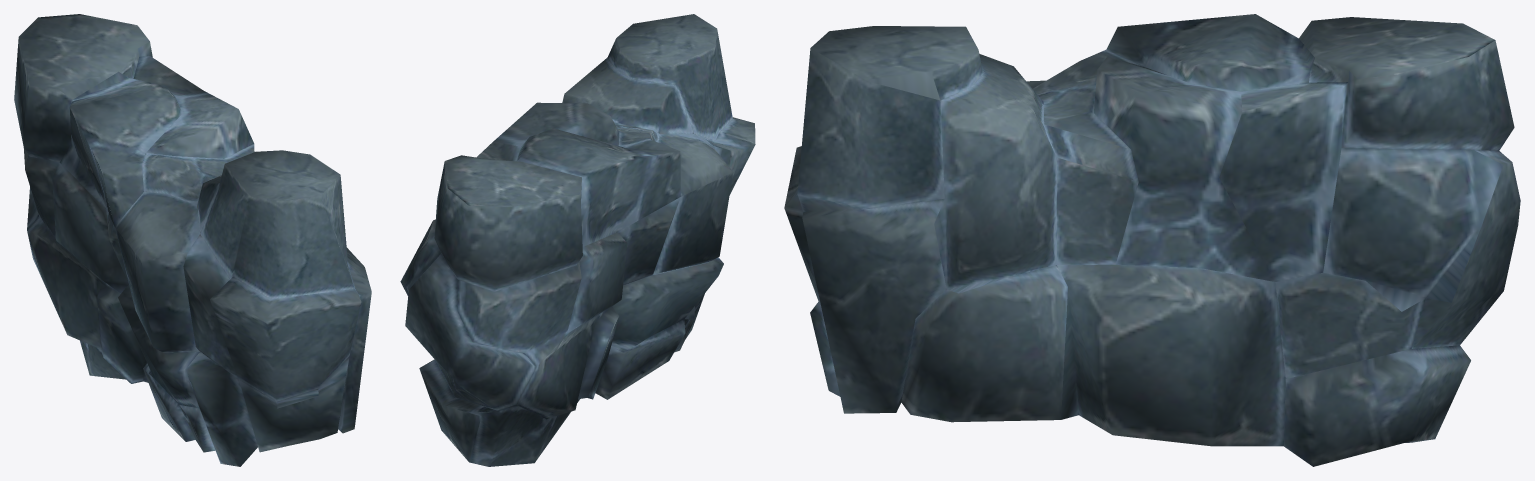
The picture shows the model from 3 angles, left to right: view 1: azimuth 30°, elevation 25°; view 2: azimuth 150°, elevation 25°; view 3: azimuth 270°, elevation 25°; orthographic projection. The views are drawn at different scales.
Parts seen in each view (by area): view 1: polySurface2; view 2: polySurface2; view 3: polySurface2.
Part boxes in pixels (x1,y1,x2,y2): polySurface2: (14,14,371,466); polySurface2: (400,14,755,466); polySurface2: (784,14,1520,466).
Bounding box in the file's own units: 11.57 × 17.34 × 27.61.
